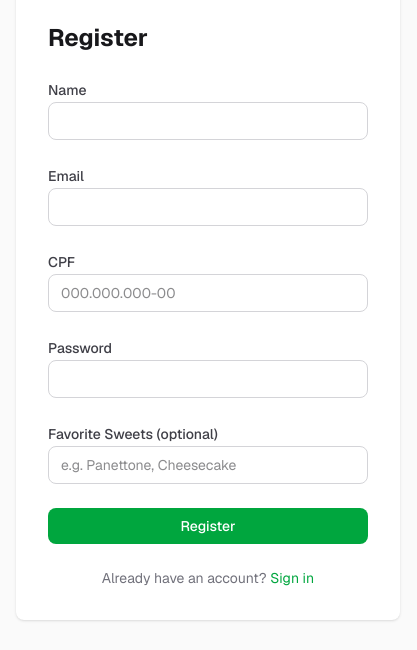
Test case: RegisterPage › validates password minimum length
The image size is (417, 650).
Type "John" into the field labelled "Name" at (208, 121), box [48, 102, 368, 140]
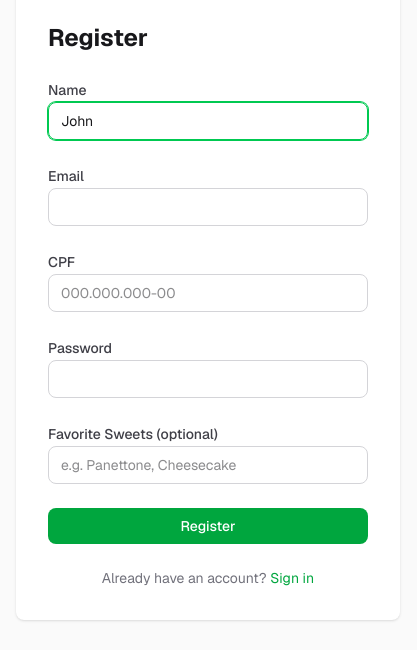
Type "john@test.com" into the field labelled "Email" at (208, 207), box [48, 188, 368, 226]
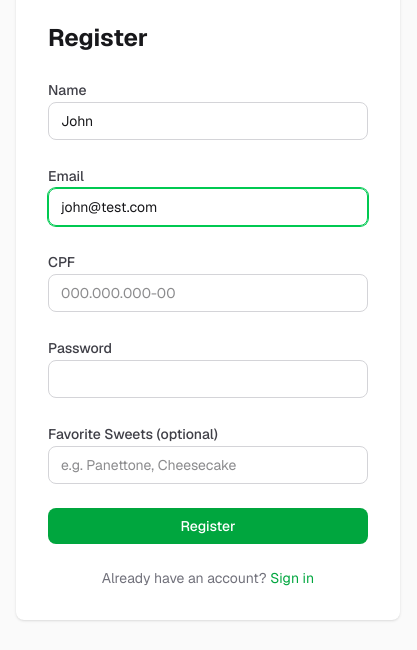
Type "52998224725" into the field labelled "CPF" at (208, 293), box [48, 274, 368, 312]
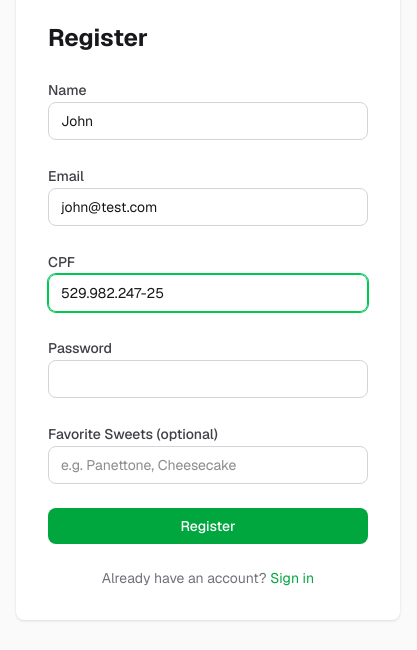
Type "12345" into the password field labelled "Password" at (208, 379), box [48, 360, 368, 398]
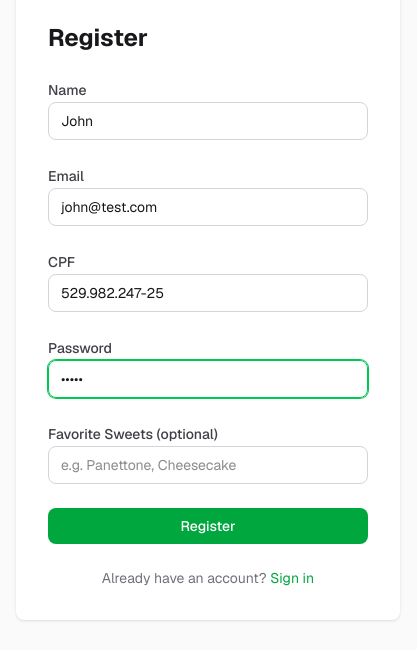
Click the button "Register" at (208, 526), box [48, 508, 368, 544]
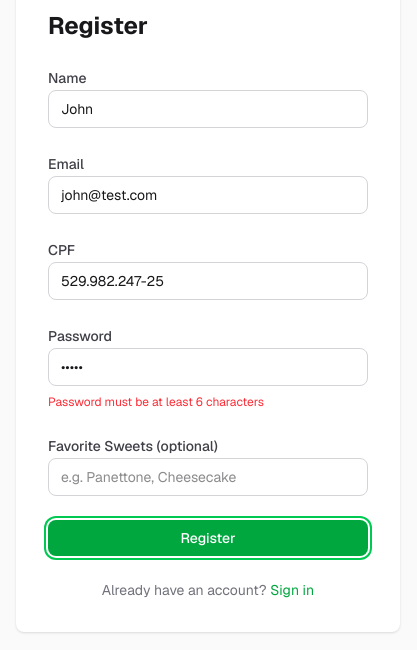
Check: the text "Password must be at least 6 characters" is shown, box [48, 394, 264, 410]
